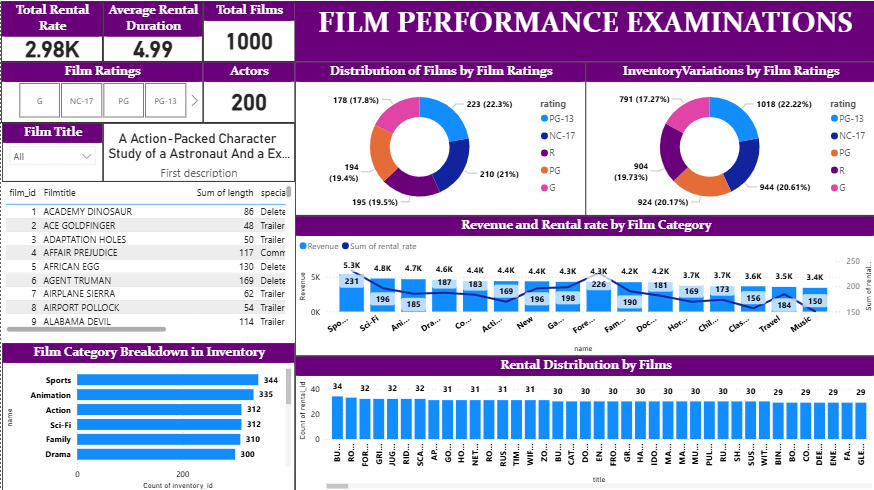

This screenshot's page, from the dashboard's own definition file:
{"tool":"powerbi","page":{"name":"Film Analysis","canvas":[1280,720],"ordinal":1},"visuals":[{"type":"card","title":"Total Rental Rate","fields":{"Values":["Sum(film.rental_rate)"]},"box":[0,0,149.3,89.3],"z":0},{"type":"card","title":"Average Rental Duration","fields":{"Values":["Avg(film.rental_duration)"]},"box":[149.3,0,146.3,89.3],"z":1000},{"type":"card","title":"Total Films","fields":{"Values":["CountNonNull(film.film_id)"]},"box":[295.6,0,134.6,89.3],"z":2000},{"type":"textbox","box":[430.2,0,850.2,89.3],"z":3000},{"type":"slicer","title":"Film Ratings","fields":{"Values":["film.rating"]},"box":[0,89.3,295.6,89.3],"z":4000},{"type":"card","title":"Actors","fields":{"Values":["CountNonNull(actor.actor_id)"]},"box":[295.6,89.3,134.6,89.3],"z":5000},{"type":"slicer","title":"Film Title","fields":{"Values":["film.title"]},"box":[1.5,178.5,147.8,86.3],"z":6000},{"type":"card","fields":{"Values":["Min(film.description)"]},"box":[149.3,178.5,281,86.3],"z":7000},{"type":"tableEx","fields":{"Values":["film.film_id","film.title","Sum(film.length)","film.special_features"]},"box":[1.5,264.9,428.8,225.4],"z":8000},{"type":"clusteredBarChart","title":"Film Category Breakdown in Inventory","fields":{"Category":["category.name"],"Y":["CountNonNull(inventory.inventory_id)"]},"box":[1,500,429,220],"z":9000},{"type":"donutChart","title":"InventoryVariations by Film Ratings","fields":{"Category":["film.rating"],"Y":["CountNonNull(inventory.inventory_id)"]},"box":[854.6,89.3,425.9,225.4],"z":10000},{"type":"donutChart","title":"Distribution of Films by Film Ratings","fields":{"Category":["film.rating"],"Y":["CountNonNull(film.film_id)"]},"box":[430.2,89.3,425.9,225.4],"z":11000},{"type":"lineStackedColumnComboChart","title":"Revenue and  Rental rate by Film Category","fields":{"Category":["category.name"],"Y":["payment.Revenue"],"Y2":["Sum(film.rental_rate)"]},"box":[430.2,314.6,850.2,204.9],"z":12000},{"type":"lineClusteredColumnComboChart","title":"Rental Distribution by Films","fields":{"Category":["film.title"],"Y":["CountNonNull(rental.rental_id)"]},"box":[430.2,519.5,850.2,200.5],"z":13000}]}

Visuals, with their boxes in screenshot pixels (x1, y1, x2, y2), scaled from the page's 1280x720 canvas onto the 874x490 screenshot:
"Total Rental Rate" card: 0 0 102 61
"Average Rental Duration" card: 102 0 202 61
"Total Films" card: 202 0 294 61
textbox: 294 0 873 61
"Film Ratings" slicer: 0 61 202 122
"Actors" card: 202 61 294 122
"Film Title" slicer: 1 121 102 180
card - Min(film.description): 102 121 294 180
tableEx - film.film_id x film.title: 1 180 294 334
"Film Category Breakdown in Inventory" clusteredBarChart: 1 340 294 489
"InventoryVariations by Film Ratings" donutChart: 584 61 873 214
"Distribution of Films by Film Ratings" donutChart: 294 61 585 214
"Revenue and  Rental rate by Film Category" lineStackedColumnComboChart: 294 214 873 354
"Rental Distribution by Films" lineClusteredColumnComboChart: 294 354 873 489
